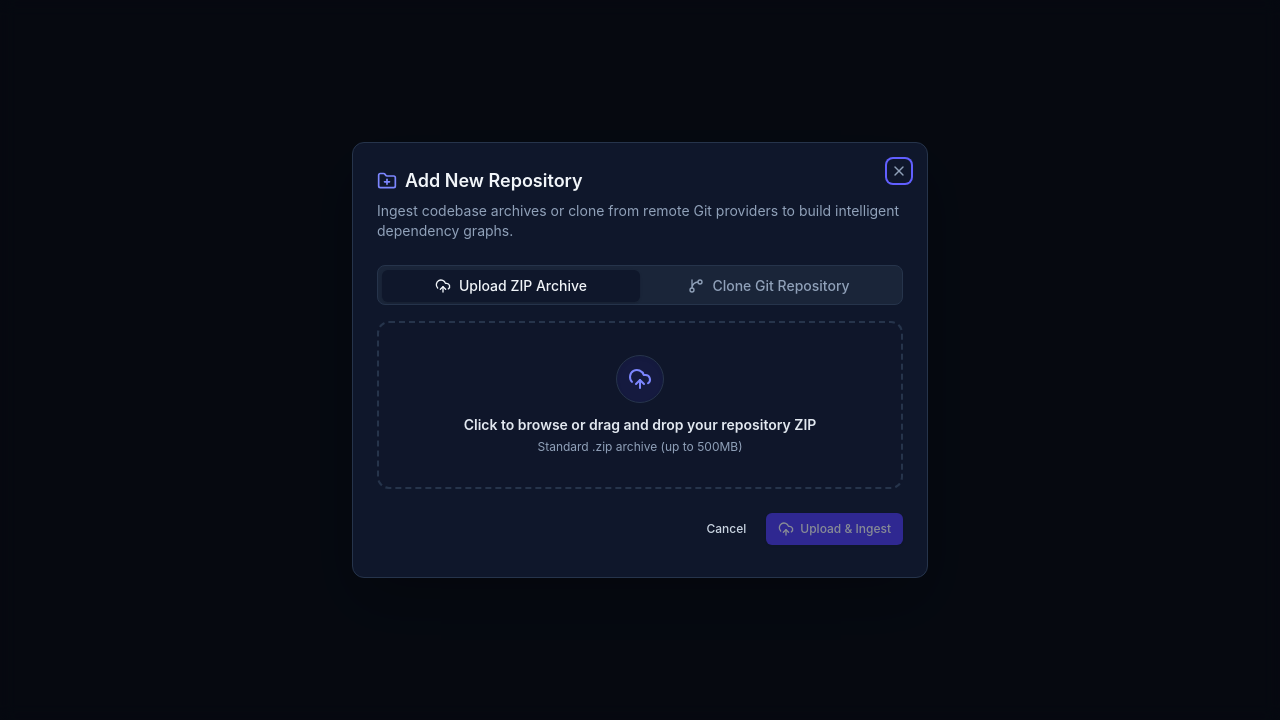
Scenario: Repository Features › AddRepositoryModal › renders tabs and allows switching between Upload and Clone
Expected: the heading "Add New Repository" is shown, [377,170,583,191]
Expected: the tab "Upload ZIP Archive" is shown, [382,270,640,302]
# Switch to clone tab
Click the tab "Clone Git Repository". click: (769, 286)
box: [640,270,898,302]
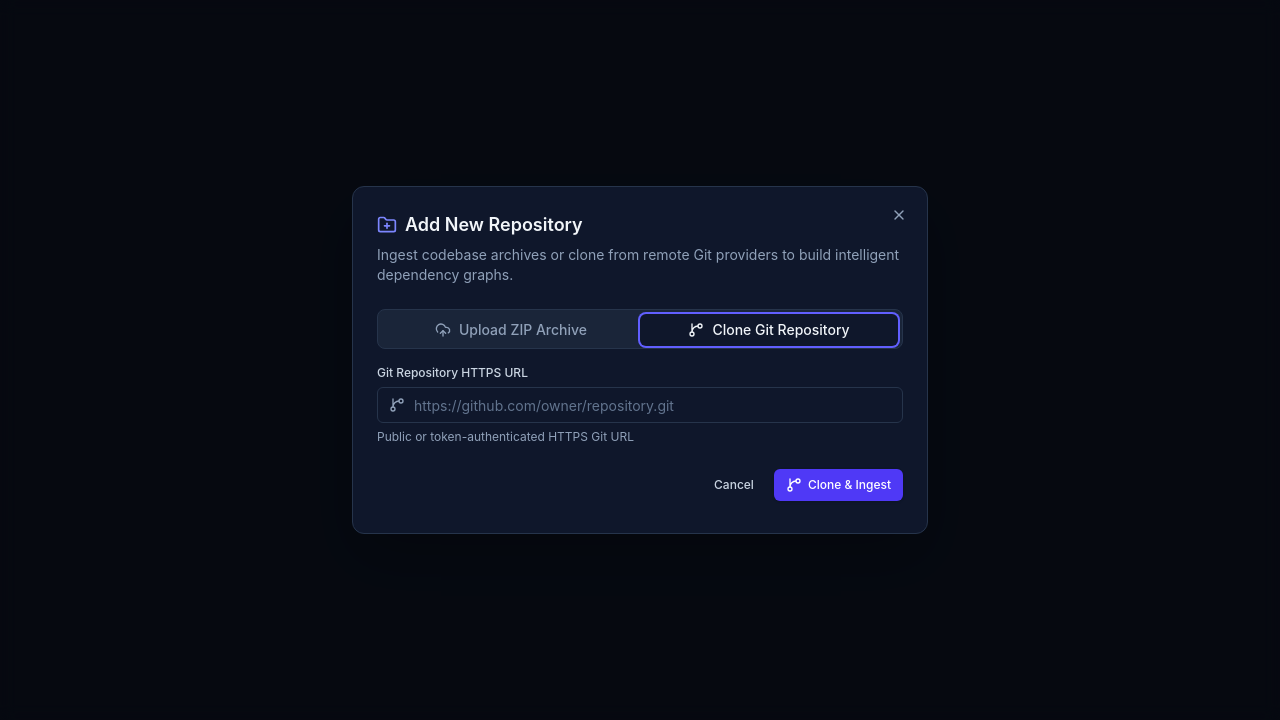
Now the field labelled "Git Repository HTTPS URL" is shown, box [377,387,903,423]
